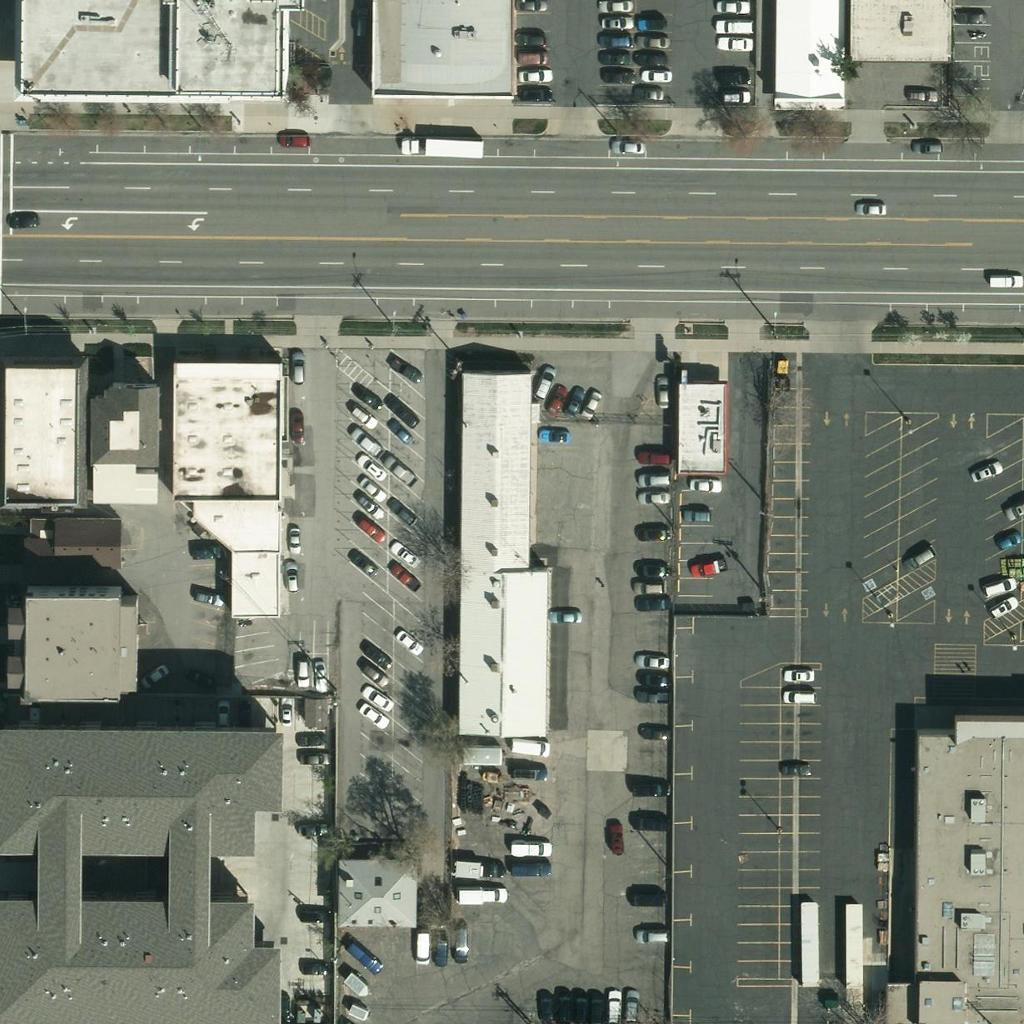car: (956, 1, 990, 35), (343, 4, 377, 38), (598, 5, 632, 39), (635, 5, 669, 39), (718, 10, 752, 44), (514, 22, 548, 56), (599, 23, 633, 57), (636, 23, 670, 57), (719, 25, 753, 59), (600, 40, 634, 74), (632, 41, 666, 75), (516, 42, 550, 76), (516, 57, 550, 91), (640, 57, 674, 91), (600, 59, 634, 93), (713, 60, 747, 94), (630, 75, 664, 109), (517, 76, 551, 110), (902, 78, 936, 112), (717, 80, 751, 114), (277, 122, 311, 156), (913, 129, 947, 163), (611, 130, 645, 164), (856, 193, 890, 227), (8, 202, 42, 236), (984, 262, 1018, 296), (279, 352, 313, 386), (390, 353, 424, 387), (527, 366, 561, 400), (645, 378, 679, 412), (348, 380, 382, 414), (537, 385, 571, 419), (556, 385, 590, 419), (574, 386, 608, 420), (384, 392, 418, 426), (345, 398, 379, 432), (279, 411, 313, 445), (383, 416, 417, 450), (539, 418, 573, 452), (348, 424, 382, 458), (638, 439, 672, 473), (355, 452, 389, 486), (379, 452, 413, 486), (966, 456, 1000, 490), (637, 462, 671, 496), (685, 468, 719, 502), (354, 471, 388, 505), (638, 481, 672, 515), (349, 488, 383, 522), (385, 495, 419, 529), (680, 499, 714, 533), (352, 513, 386, 547), (635, 516, 669, 550), (276, 523, 310, 557), (988, 525, 1022, 559), (192, 534, 226, 568), (388, 539, 422, 573), (902, 541, 936, 575), (346, 548, 380, 582), (691, 551, 725, 585), (637, 552, 671, 586), (386, 559, 420, 593), (274, 562, 308, 596), (634, 570, 668, 604), (980, 570, 1014, 604), (190, 581, 224, 615), (637, 585, 671, 619), (983, 590, 1017, 624), (548, 600, 582, 634), (391, 624, 425, 658), (359, 641, 393, 675), (634, 644, 668, 678), (284, 655, 318, 689), (302, 657, 336, 691), (356, 657, 390, 691), (782, 657, 816, 691), (136, 659, 170, 693), (184, 661, 218, 695), (638, 662, 672, 696), (780, 680, 814, 714), (634, 681, 668, 715), (362, 684, 396, 718), (268, 695, 302, 729), (227, 696, 261, 730), (205, 698, 239, 732), (354, 698, 388, 732), (639, 717, 673, 751), (295, 723, 329, 757), (512, 730, 546, 764), (298, 741, 332, 775), (778, 752, 812, 786), (512, 757, 546, 791), (633, 771, 667, 805), (633, 805, 667, 839), (295, 812, 329, 846), (599, 824, 633, 858), (517, 831, 551, 865), (517, 851, 551, 885), (625, 882, 659, 916), (298, 899, 332, 933), (634, 919, 668, 953), (442, 925, 476, 959), (404, 931, 438, 965), (423, 936, 457, 970), (347, 943, 381, 977), (299, 950, 333, 984), (265, 989, 299, 1023), (527, 989, 561, 1023), (546, 989, 580, 1023), (563, 989, 597, 1023), (579, 989, 613, 1023), (598, 990, 632, 1024), (611, 991, 645, 1024), (714, 0, 748, 23), (601, 0, 635, 22), (512, 0, 546, 21), (1003, 492, 1024, 526)
